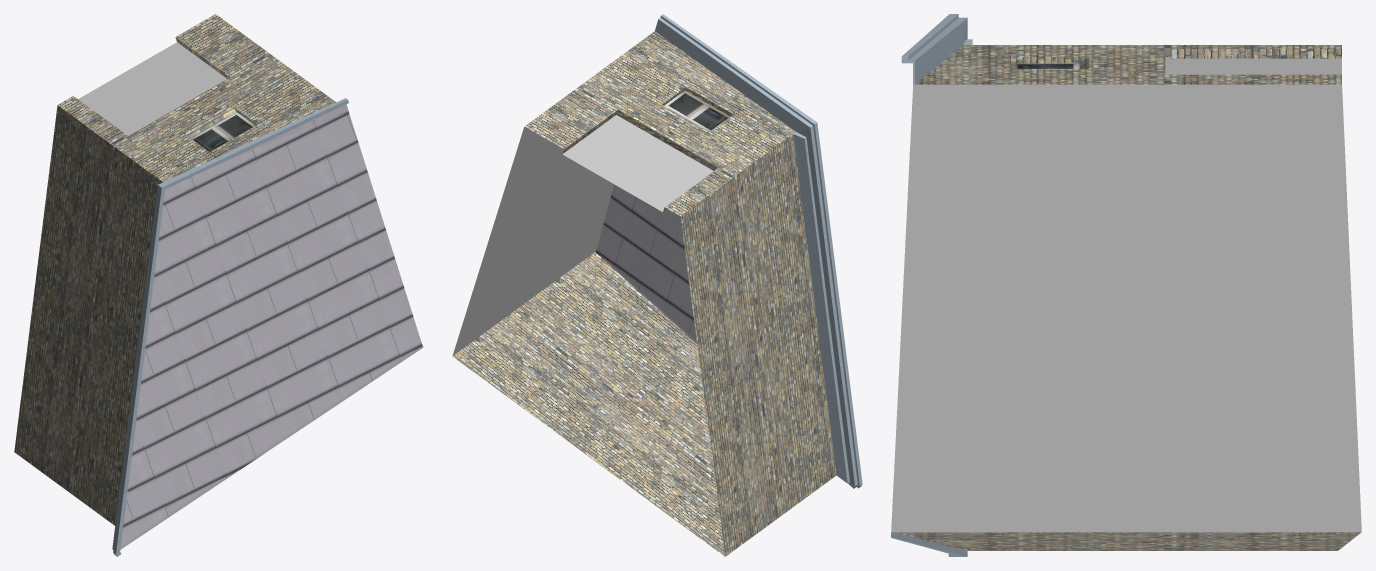
File: Myyrivahe_62a2.obj
The picture shows the model from 3 angles, left to right: view 1: azimuth 30°, elevation 25°; view 2: azimuth 150°, elevation 25°; view 3: azimuth 270°, elevation 25°; orthographic projection. The views are drawn at different scales.
Parts seen in each view (by area): view 1: Myyrivahe_62a_2; view 2: Myyrivahe_62a_2, xxx; view 3: xxx, Myyrivahe_62a_2.
Part boxes in pixels (x1=…): Myyrivahe_62a_2: x1=14, y1=14, x2=423, y2=556; Myyrivahe_62a_2: x1=452, y1=14, x2=862, y2=556; xxx: x1=452, y1=127, x2=613, y2=355; xxx: x1=891, y1=84, x2=1361, y2=532; Myyrivahe_62a_2: x1=891, y1=14, x2=1360, y2=556.
Size of the model in its own units: 7.19 by 9.86 by 6.27.
